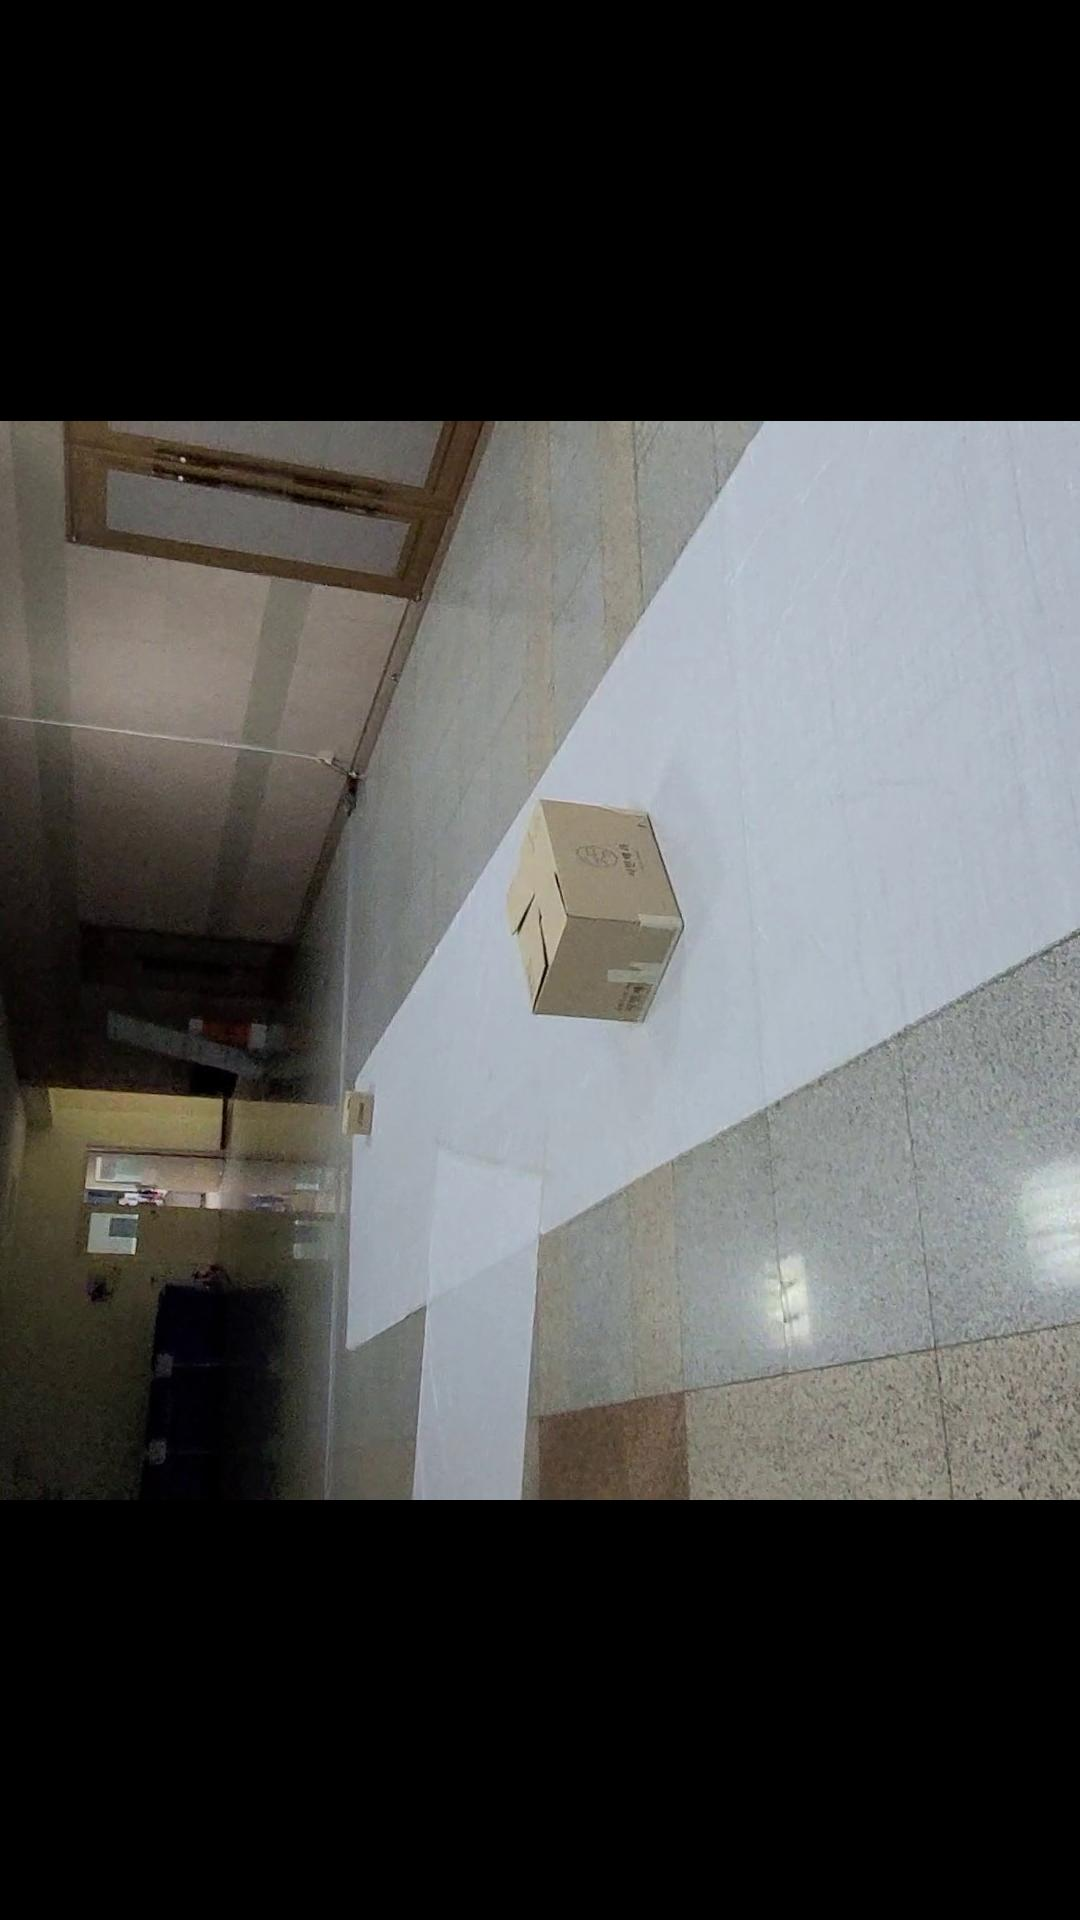Box: (450, 748, 725, 1044), (313, 1036, 415, 1164)
